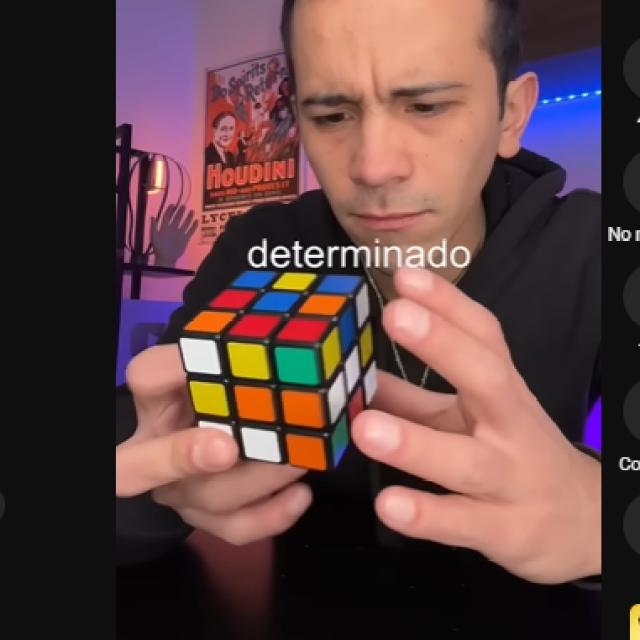Cubo-No-resuelto: (173, 260, 378, 472)
